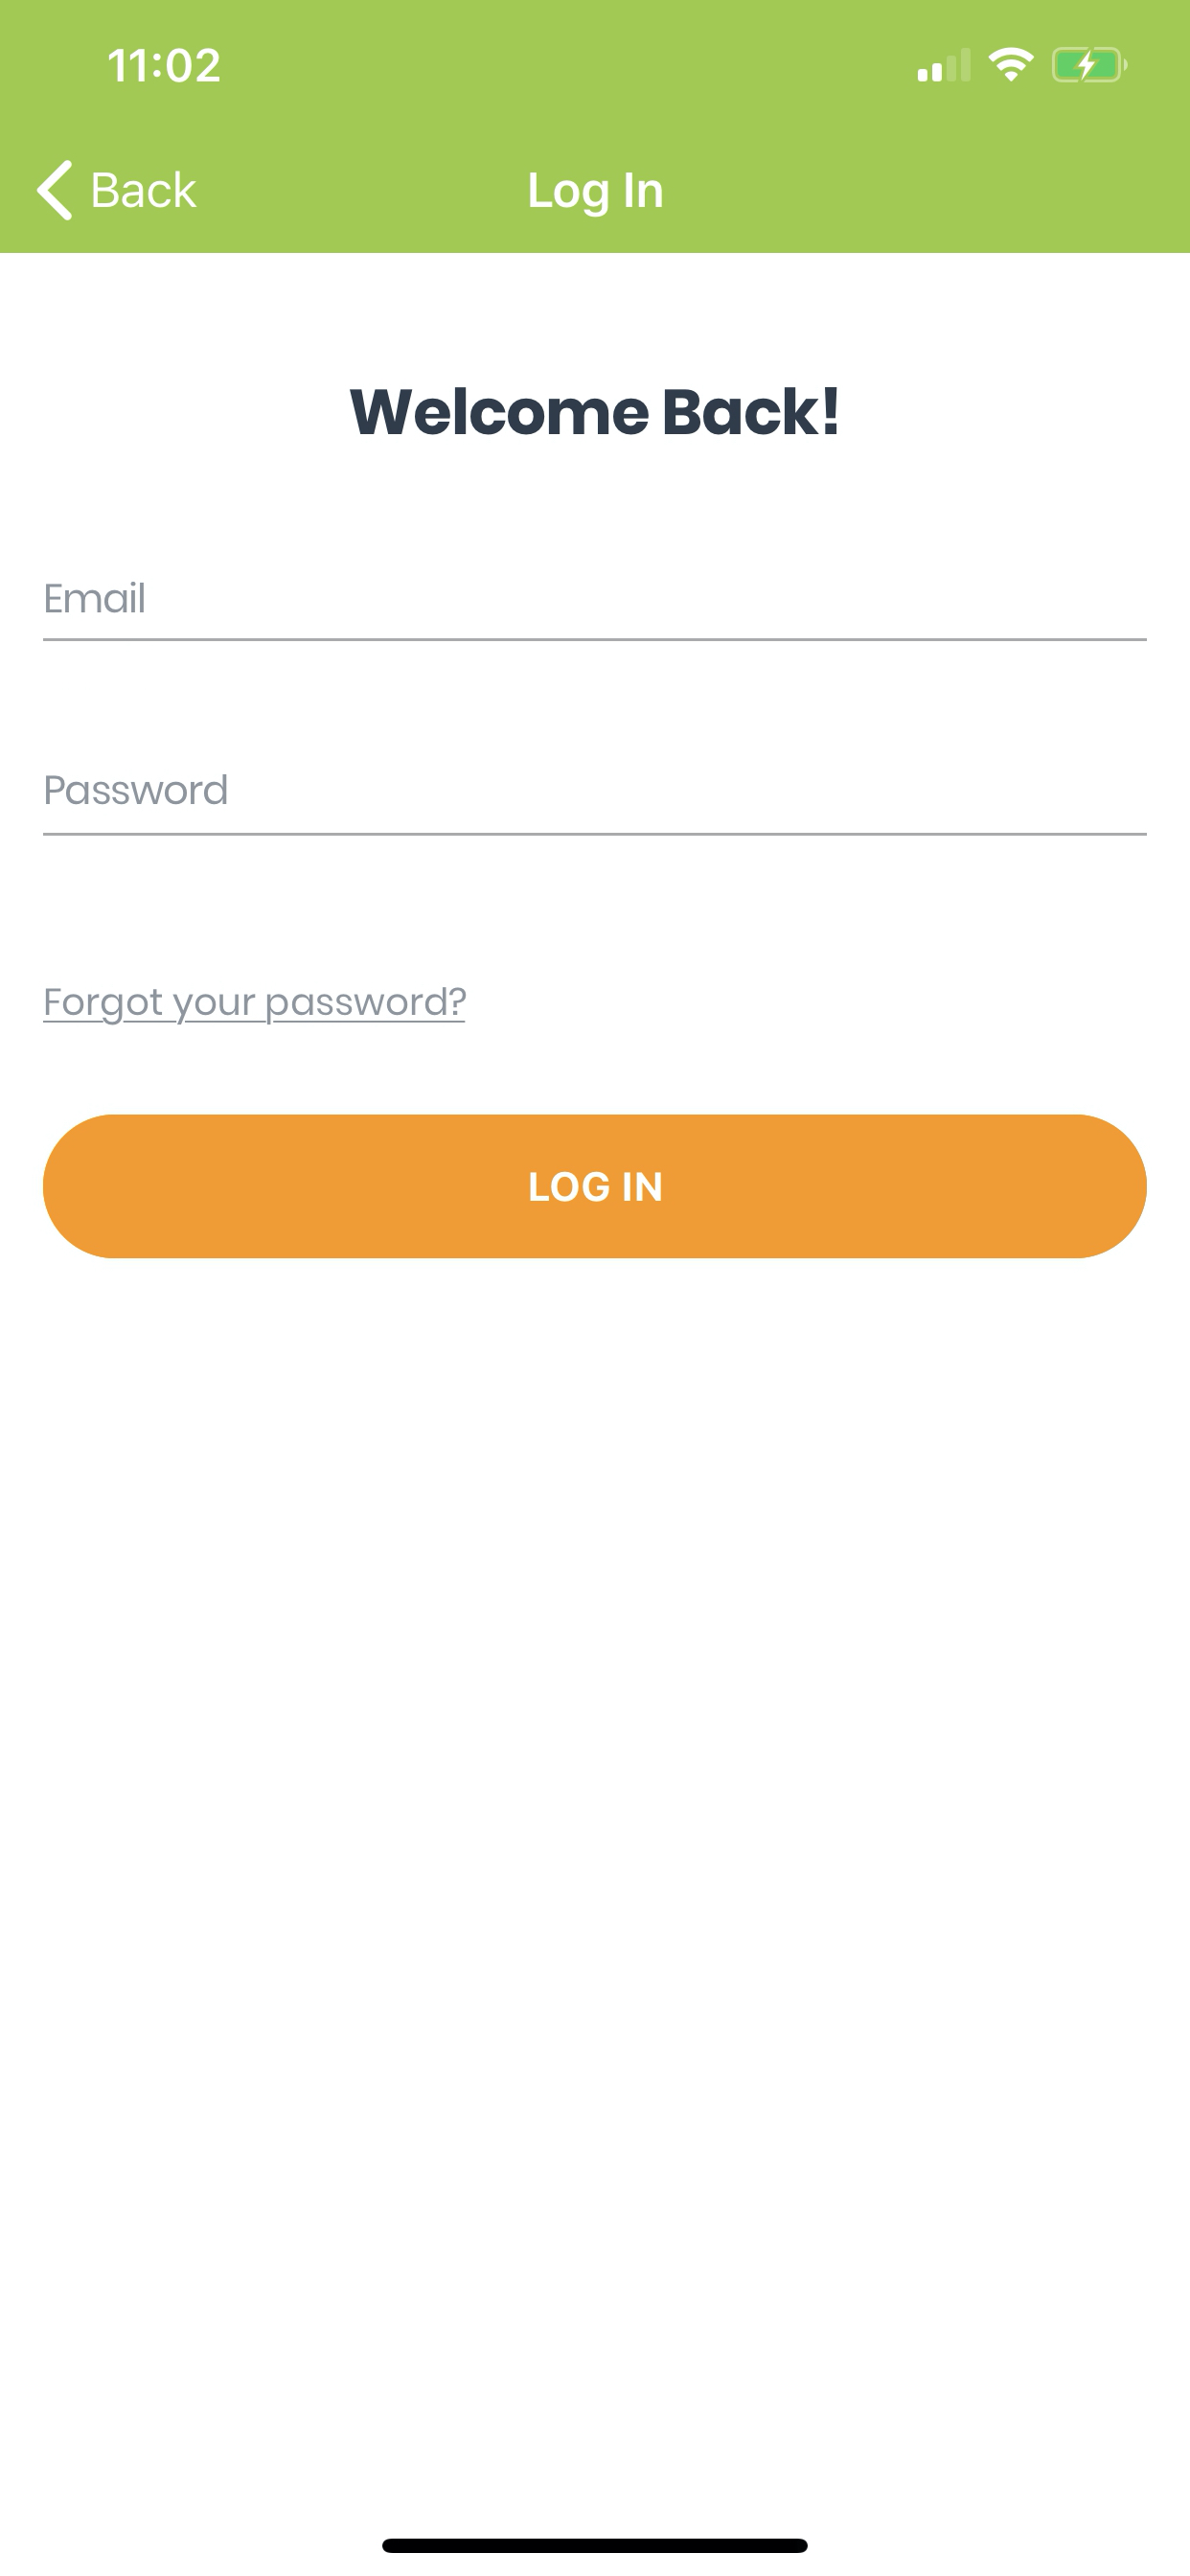EditText: (43, 774, 1147, 836), (43, 582, 1147, 641)
Icon: (38, 159, 72, 222)
Text: (350, 388, 837, 435), (43, 987, 467, 1025), (529, 172, 662, 218), (46, 774, 228, 805), (94, 171, 197, 209), (46, 582, 145, 613)
TextButton: (43, 1114, 1147, 1258)
UpperTaskBar: (108, 48, 1128, 84)
